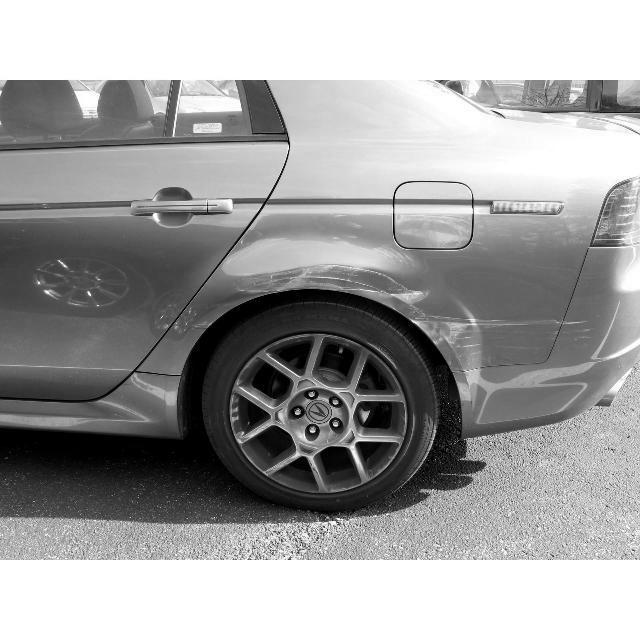quaterpanel-dent: (271, 141, 594, 419)
